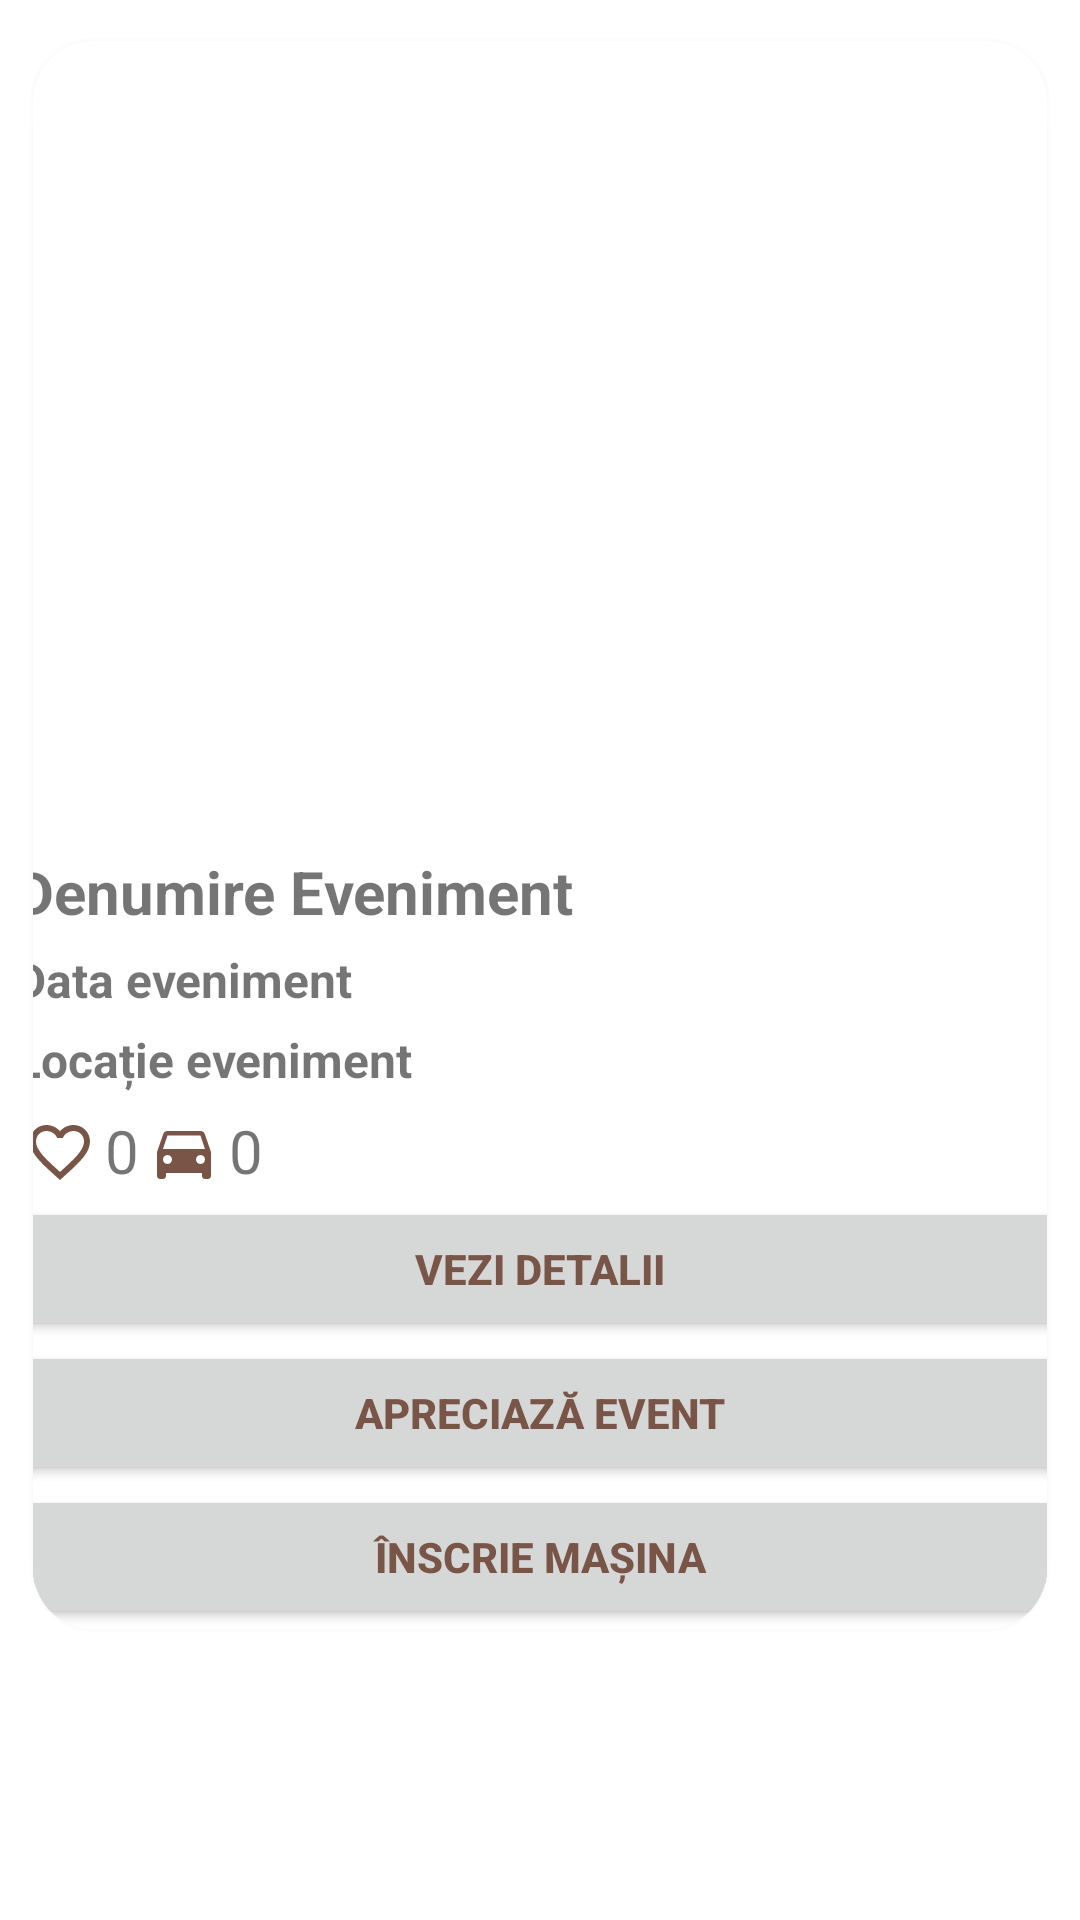

Screen size 1080×1920. Icon name, then its box in pixels as (x1, y1, x2, y2):
car: (157, 1131, 211, 1179)
like notfilled: (33, 1125, 90, 1180)
